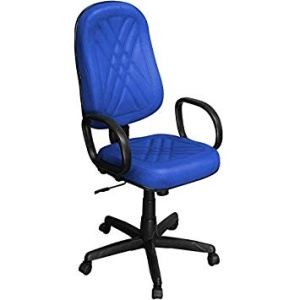chair: (73, 1, 223, 300)
